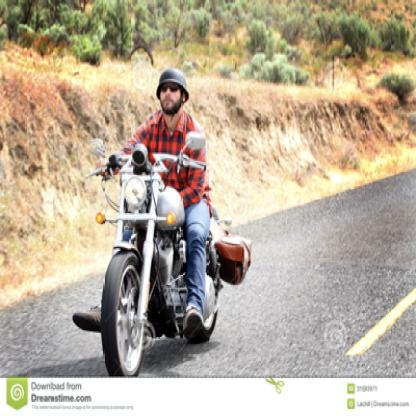Helmet: (152, 65, 191, 118)
